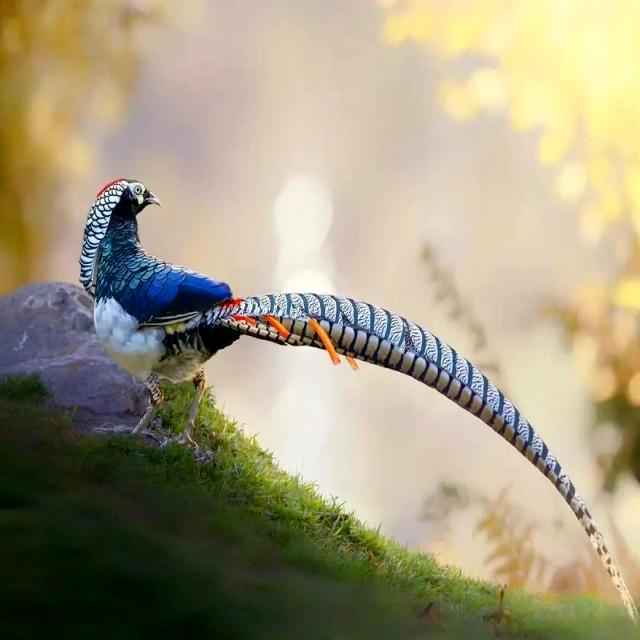Chrysolophus amherstiae: (165, 293, 609, 566)
